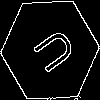U: (25, 25, 77, 81)
